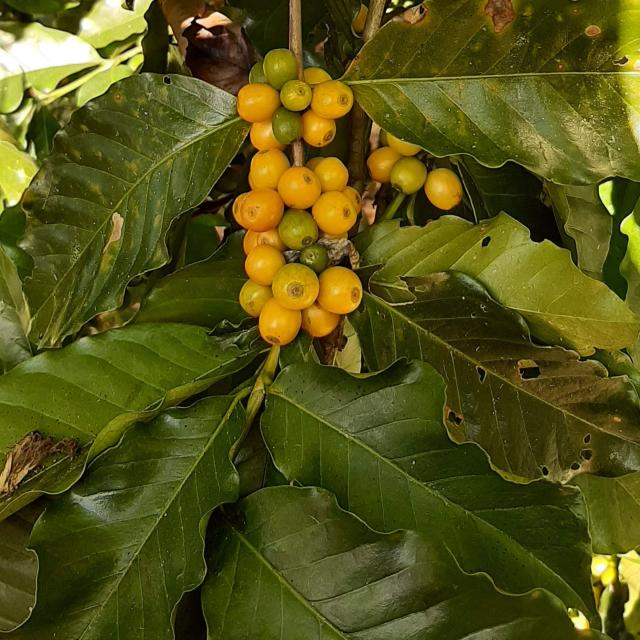green: (272, 106, 302, 144), (299, 244, 329, 273), (248, 60, 267, 83)
red: (317, 266, 363, 314), (258, 297, 301, 346), (312, 191, 357, 234), (240, 188, 284, 231), (278, 166, 322, 209), (236, 83, 280, 122), (249, 148, 290, 189), (311, 79, 354, 118), (245, 244, 285, 285), (425, 168, 463, 210), (301, 301, 340, 337), (367, 146, 403, 183), (302, 109, 337, 147), (313, 157, 349, 192), (250, 119, 286, 151), (257, 227, 288, 252), (232, 192, 249, 227), (342, 185, 362, 214), (304, 66, 332, 86), (243, 230, 259, 255)
yellow: (272, 263, 319, 310), (278, 209, 319, 250), (263, 47, 298, 89), (390, 156, 428, 194), (239, 279, 273, 317), (280, 79, 312, 111), (386, 132, 422, 156)
